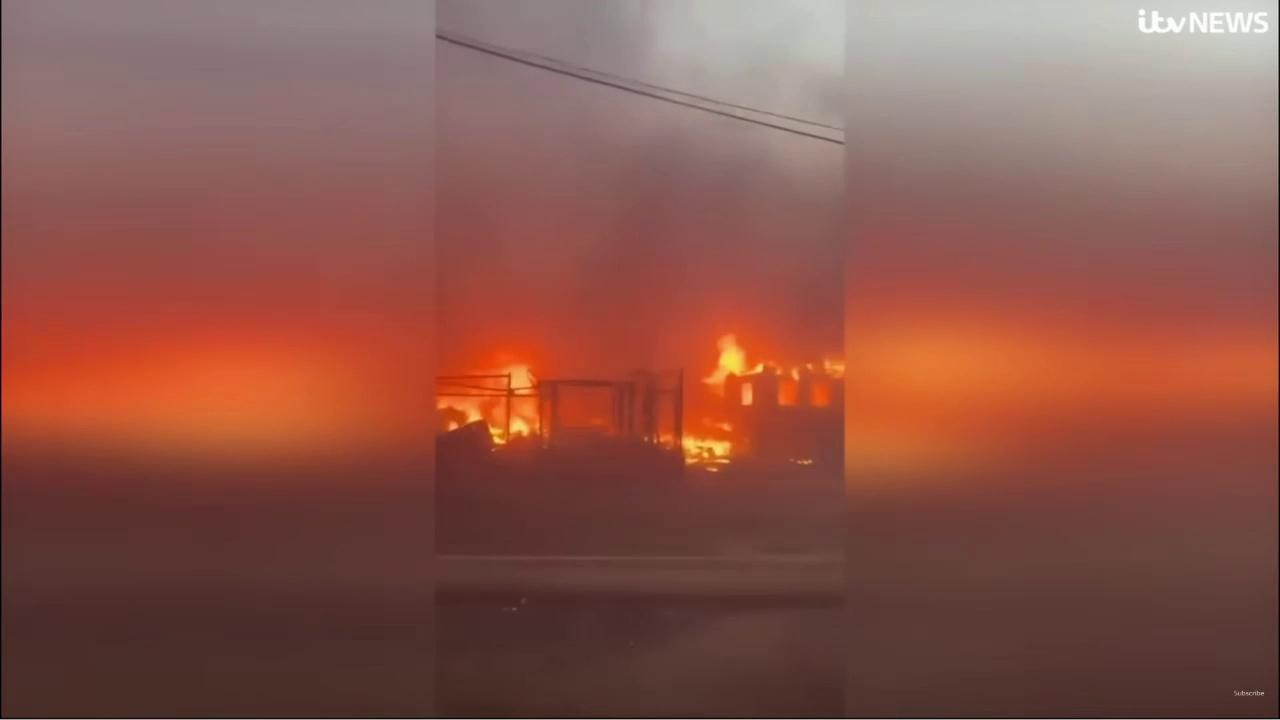fire: (434, 361, 550, 450), (700, 334, 765, 409), (640, 431, 733, 475), (822, 354, 845, 380), (789, 456, 813, 466), (793, 364, 801, 383), (807, 361, 814, 372)
smoke: (434, 0, 845, 555)
